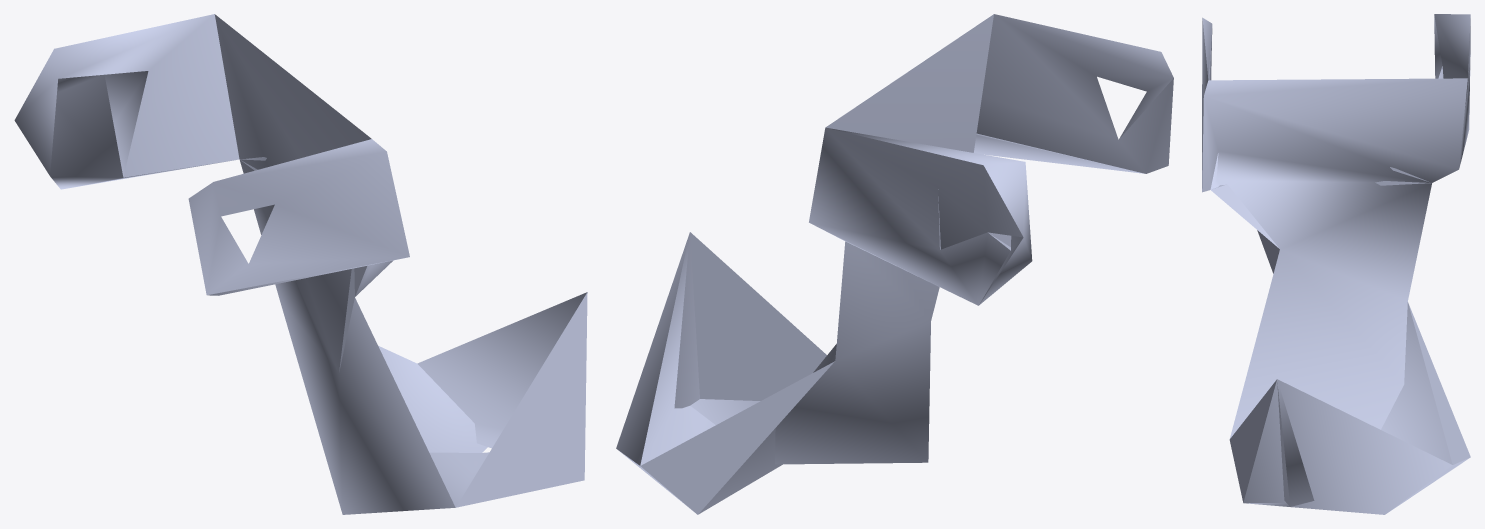
The picture shows the model from 3 angles, left to right: view 1: azimuth 30°, elevation 25°; view 2: azimuth 150°, elevation 25°; view 3: azimuth 270°, elevation 25°; orthographic projection. The views are drawn at different scales.
Visible parts, largest first — view 1: link4_stl; view 2: link4_stl; view 3: link4_stl.
Boxes of the visible parts, x1=… form: link4_stl: x1=14, y1=14, x2=587, y2=514; link4_stl: x1=616, y1=14, x2=1173, y2=514; link4_stl: x1=1202, y1=14, x2=1470, y2=514.
Size of the model in its own units: 0.1171 by 0.0745 by 0.1032.
